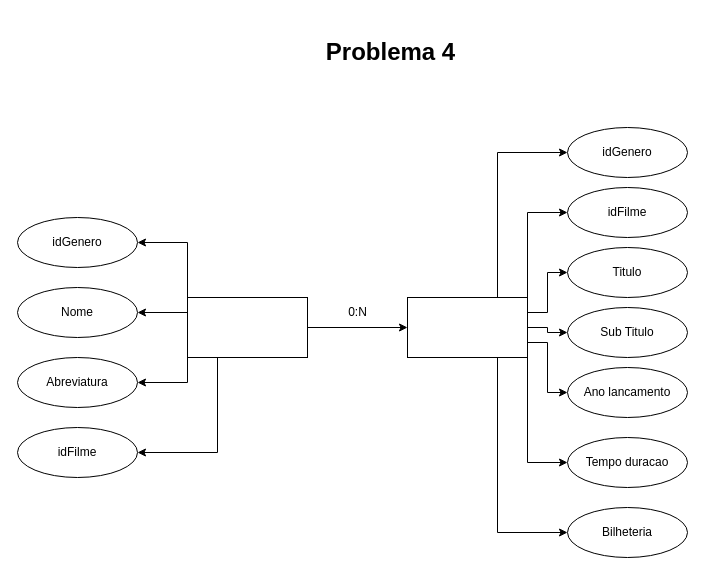
Some shapes in this 705 by 575 pixel diagram are drawn without their labels. The shapes that lost their labels are listed below. From the top down, each one's centre as x and y in pixels, then its label:
At pixel 247 327: "Genero".
At pixel 467 327: "Filme".
